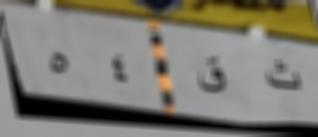4: (108, 53, 132, 87)
5: (45, 48, 71, 76)
qaaf: (194, 53, 234, 97)
thaa: (263, 55, 303, 95)
